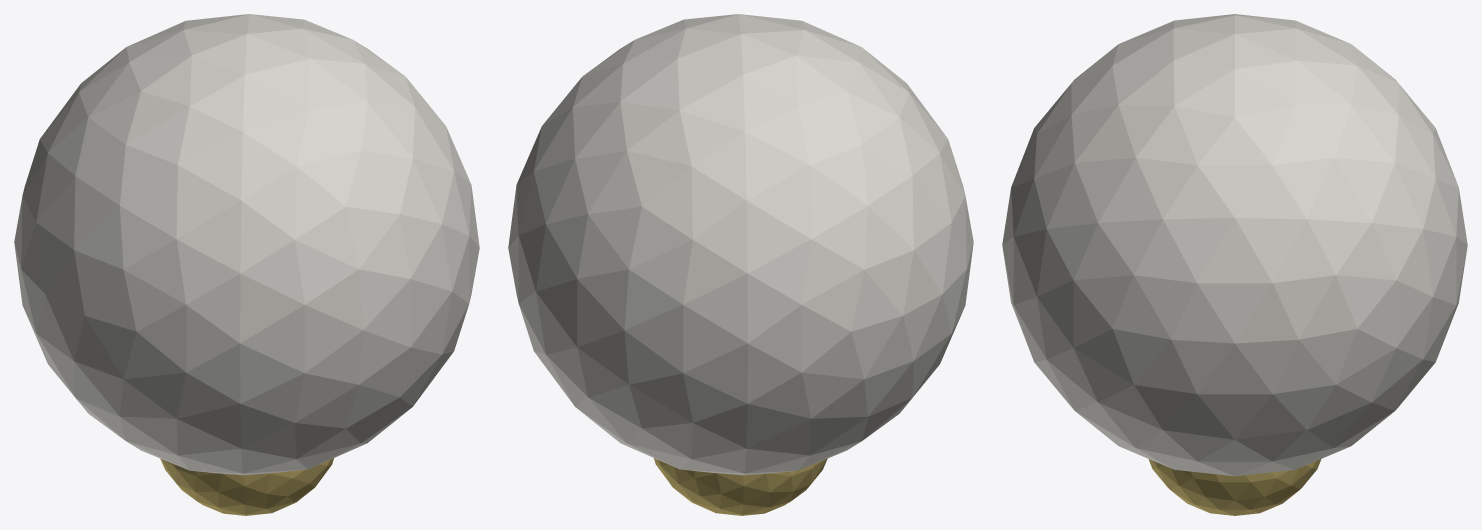
The model's file is boiled_egg.glb.
3 renders of one model, left to right at view 1: azimuth 30°, elevation 25°; view 2: azimuth 150°, elevation 25°; view 3: azimuth 270°, elevation 25°, orthographic.
Parts seen in each view (by area): view 1: 00_egg, 01_yolk; view 2: 00_egg, 01_yolk; view 3: 00_egg, 01_yolk.
Boxes of the visible parts, x1=… form: 00_egg: x1=14, y1=14, x2=479, y2=475; 01_yolk: x1=160, y1=458, x2=333, y2=515; 00_egg: x1=508, y1=14, x2=973, y2=475; 01_yolk: x1=654, y1=458, x2=827, y2=515; 00_egg: x1=1002, y1=14, x2=1467, y2=476; 01_yolk: x1=1148, y1=459, x2=1321, y2=515.
Bounding box in the file's own units: 0.18 × 0.202 × 0.18.
